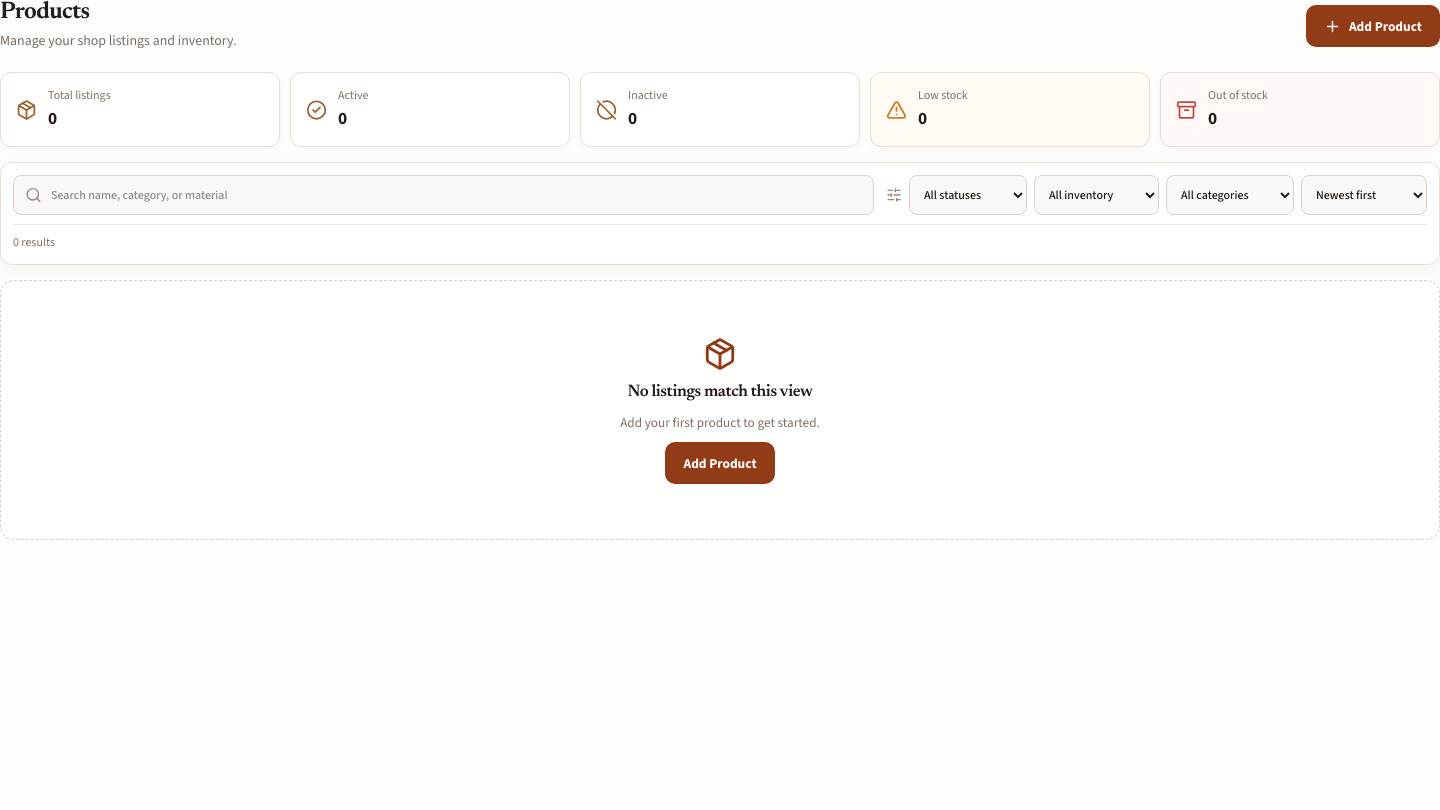
Test: artisan Add Product entry › opens the selection popup from the listings toolbar and empty state
Click the button "Add Product" in the row of "Manage your shop listings and inventory.". click: (1373, 26)
box: [1306,5,1439,47]
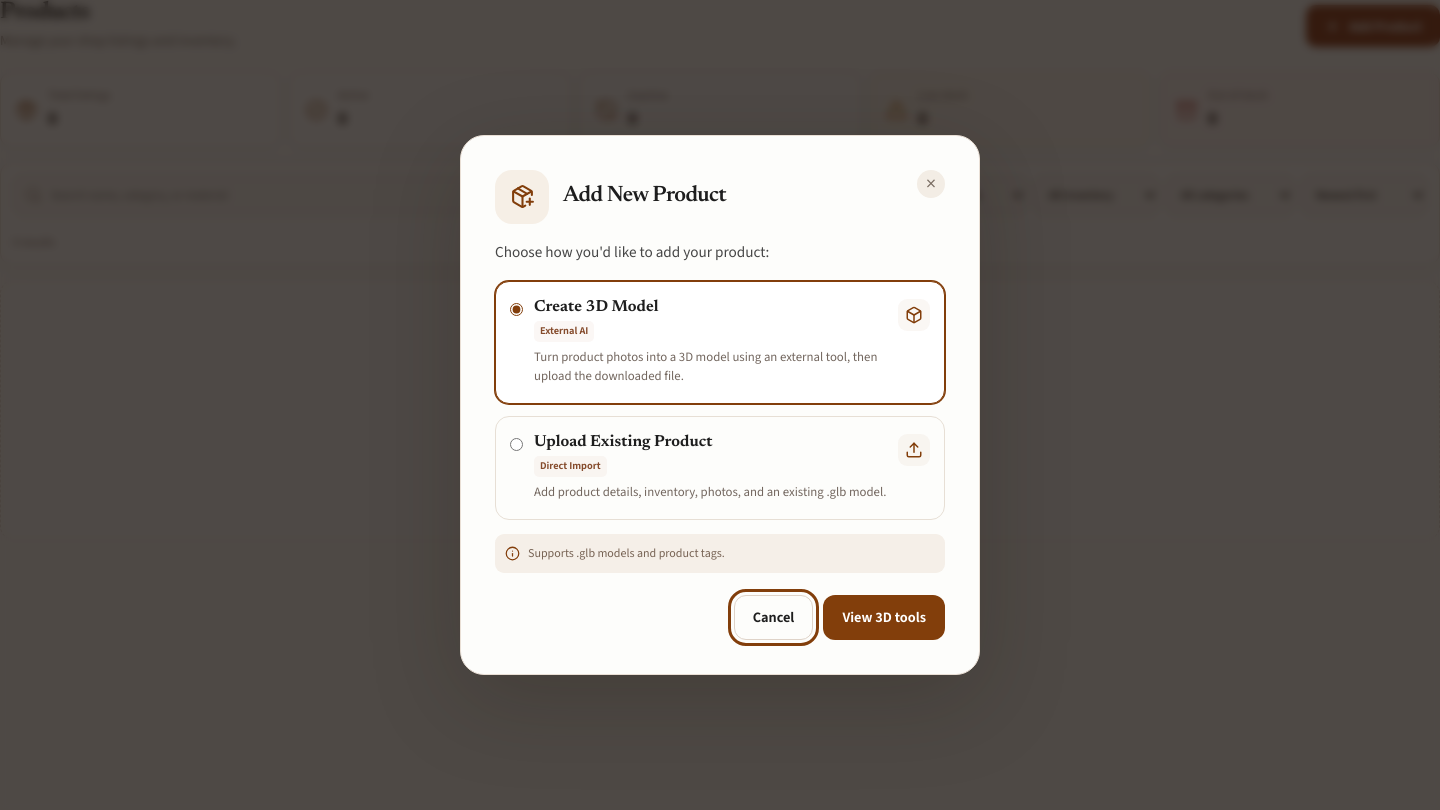
Expected: the dialog "Add New Product" is shown, [460,135,980,675]
Click the button named "Close popup". click: (931, 184)
box: [917,170,945,198]
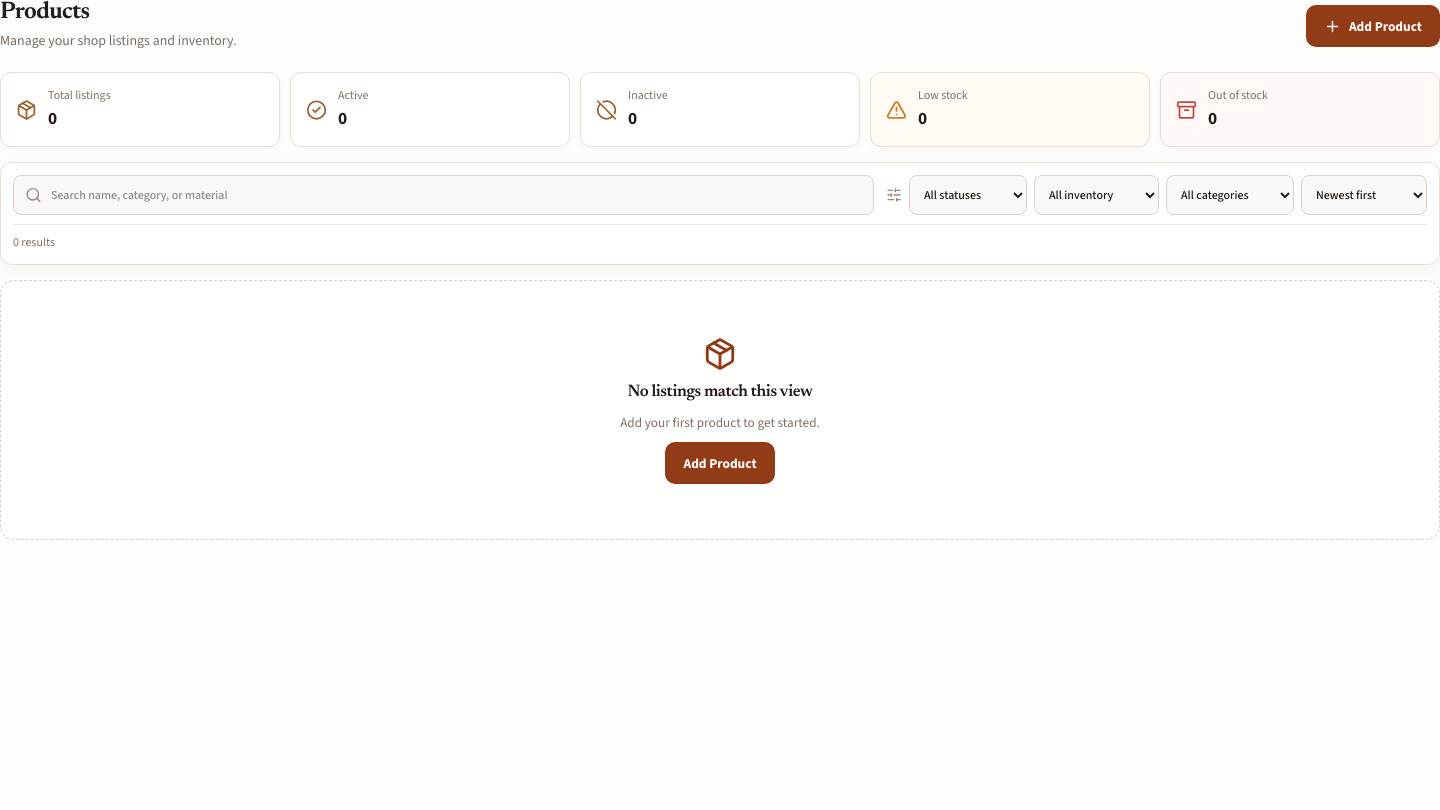
Click the button "Add Product" below "Add your first product to get started.". click: (720, 463)
box: [665,442,774,484]
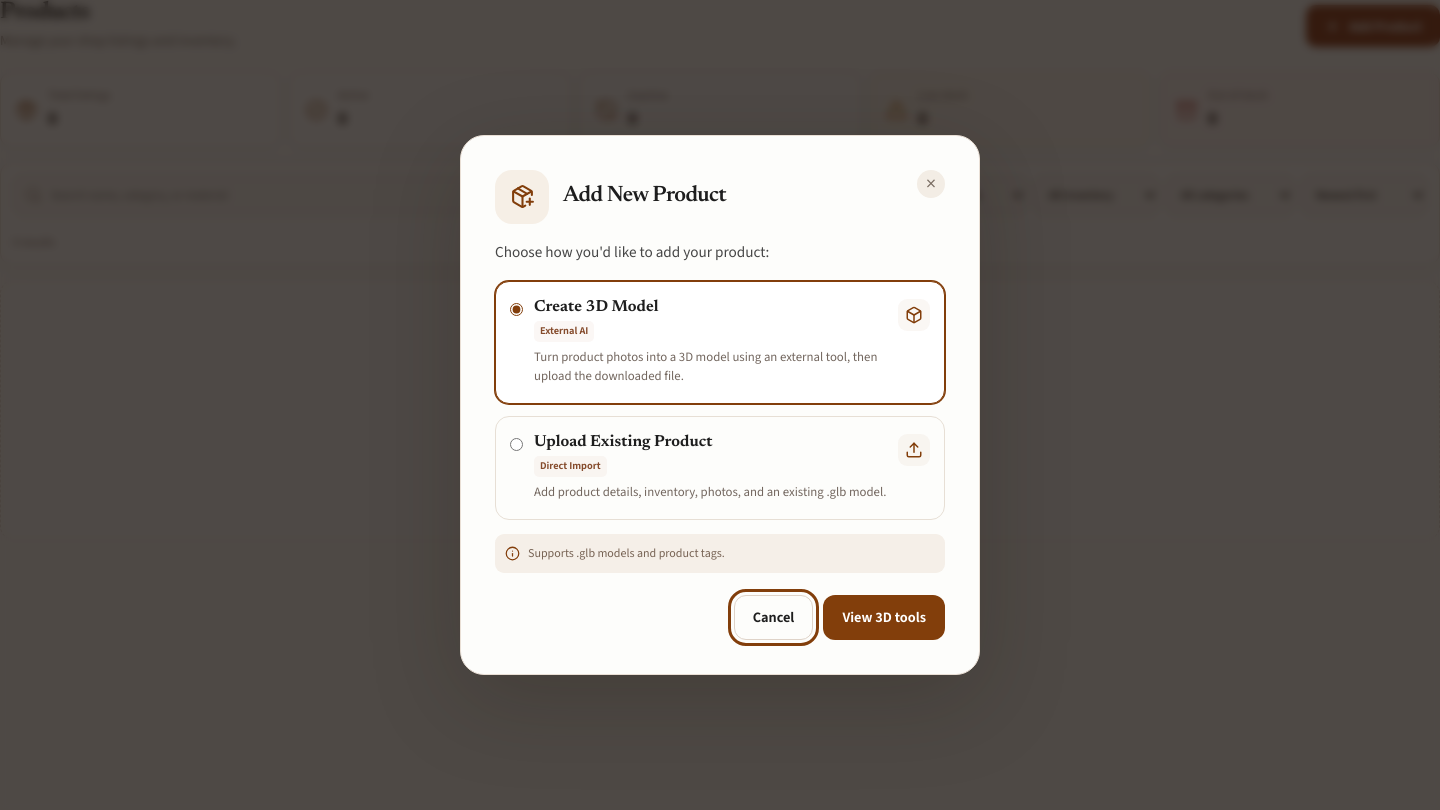
Expected: the radio button labelled "Create 3D Model" is checked, [510,303,523,316]
